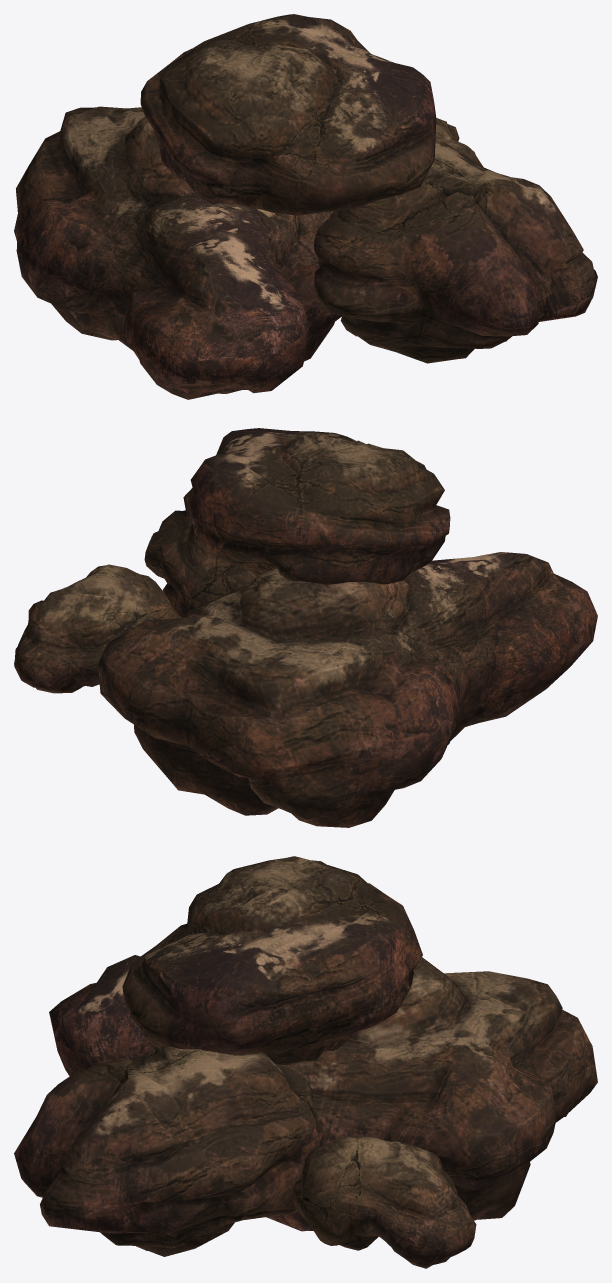
File: rock_red_small_group.dae
3 renders of one model, top to bottom at view 1: azimuth 30°, elevation 25°; view 2: azimuth 150°, elevation 25°; view 3: azimuth 270°, elevation 25°, orthographic. The views are drawn at different scales.
Visible parts, largest first — view 1: Mesh; view 2: Mesh; view 3: Mesh.
Part boxes in pixels (<box>): Mesh: <box>14,14,597,399</box>; Mesh: <box>14,428,597,827</box>; Mesh: <box>14,856,597,1268</box>.
Size of the model in its own units: 5.56 by 3.87 by 6.
